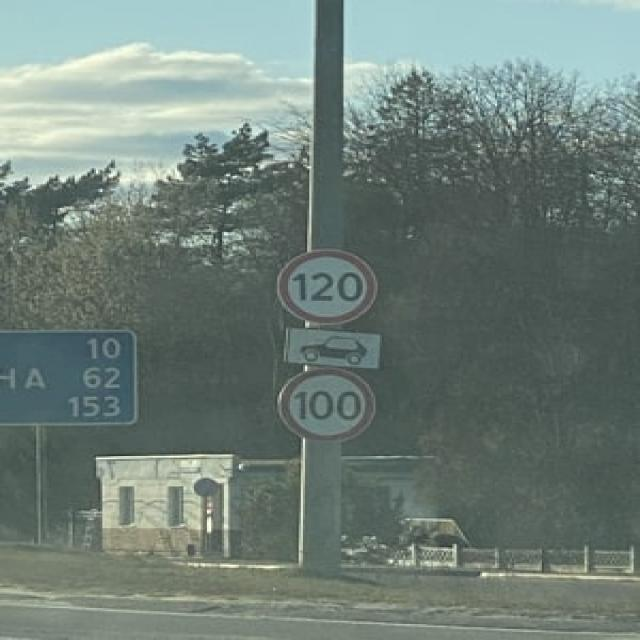Speed Limit -100-: (293, 390, 362, 421)
Speed Limit -120-: (292, 272, 364, 302)
